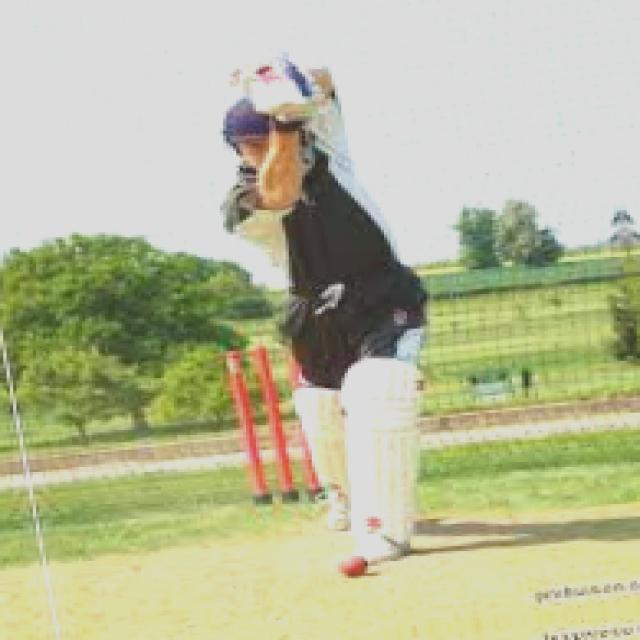bat: (235, 62, 314, 130)
